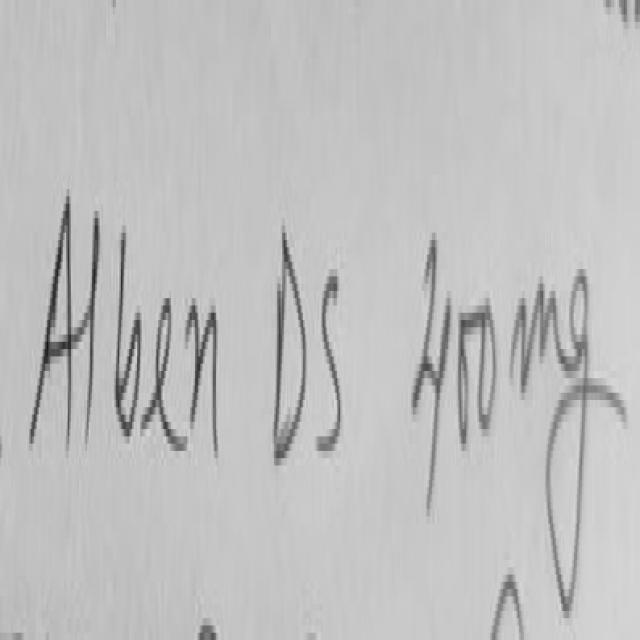0: (477, 305, 498, 442), (455, 312, 472, 457)
4: (413, 271, 451, 505)
A: (29, 189, 69, 440)
D: (274, 225, 306, 462)
S: (318, 269, 342, 447)
b: (114, 233, 142, 433)
e: (157, 298, 187, 451)
g: (548, 261, 590, 615)
l: (86, 200, 101, 429)
m: (512, 276, 577, 389)
n: (185, 298, 218, 455)
